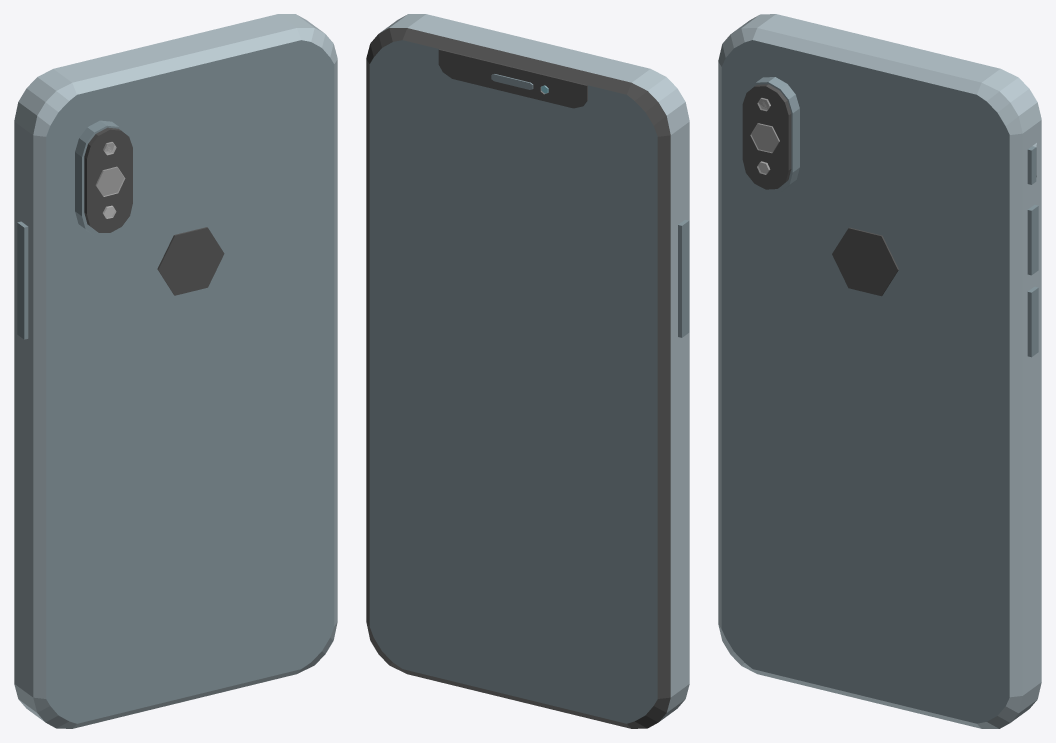
Rendered from phone.fbx.
3 renders of one model, left to right at view 1: azimuth 30°, elevation 25°; view 2: azimuth 150°, elevation 25°; view 3: azimuth 330°, elevation 25°, orthographic.
Parts seen in each view (by area): view 1: mesh_817659832, mesh_40103501, group_1638188736, mesh_465359774, mesh_1637273763, group_1982349354; view 2: mesh_817659832, mesh_660411554, mesh_1637273763; view 3: mesh_817659832, mesh_40103501, group_1638188736, mesh_465359774, mesh_849457402, mesh_1152579848, group_1982349354.
Part boxes in pixels (x1,y1,x2,y2): mesh_817659832: (14,14,337,728); mesh_40103501: (84,127,132,232); group_1638188736: (157,227,224,295); mesh_465359774: (75,120,127,236); mesh_1637273763: (17,221,28,339); group_1982349354: (96,166,125,196); mesh_817659832: (366,14,689,728); mesh_660411554: (438,49,587,108); mesh_1637273763: (678,219,689,337); mesh_817659832: (718,14,1041,728); mesh_40103501: (742,84,791,189); group_1638188736: (832,227,898,296); mesh_465359774: (743,77,799,192); mesh_849457402: (1027,204,1038,275); mesh_1152579848: (1027,286,1038,357); group_1982349354: (750,123,779,153).
Size of the model in its own units: 76 by 150 by 17.61.
